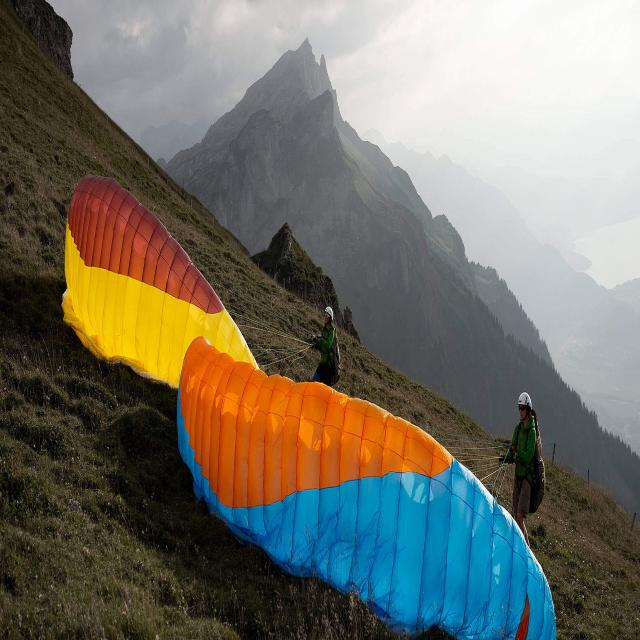paraglider: (61, 172, 557, 638)
